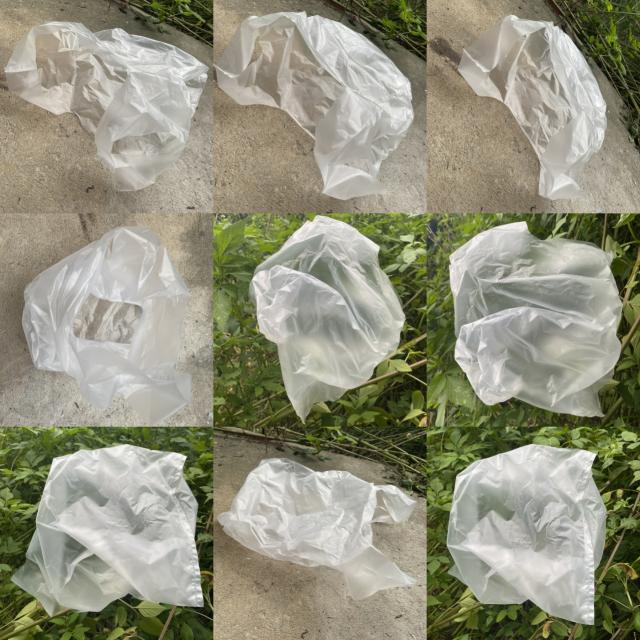Single-layer Plastic: (215, 12, 414, 199), (5, 21, 209, 191), (22, 226, 191, 425), (450, 222, 622, 416), (12, 445, 204, 616), (250, 216, 405, 421), (448, 445, 606, 624), (218, 459, 416, 599), (458, 15, 606, 199)
